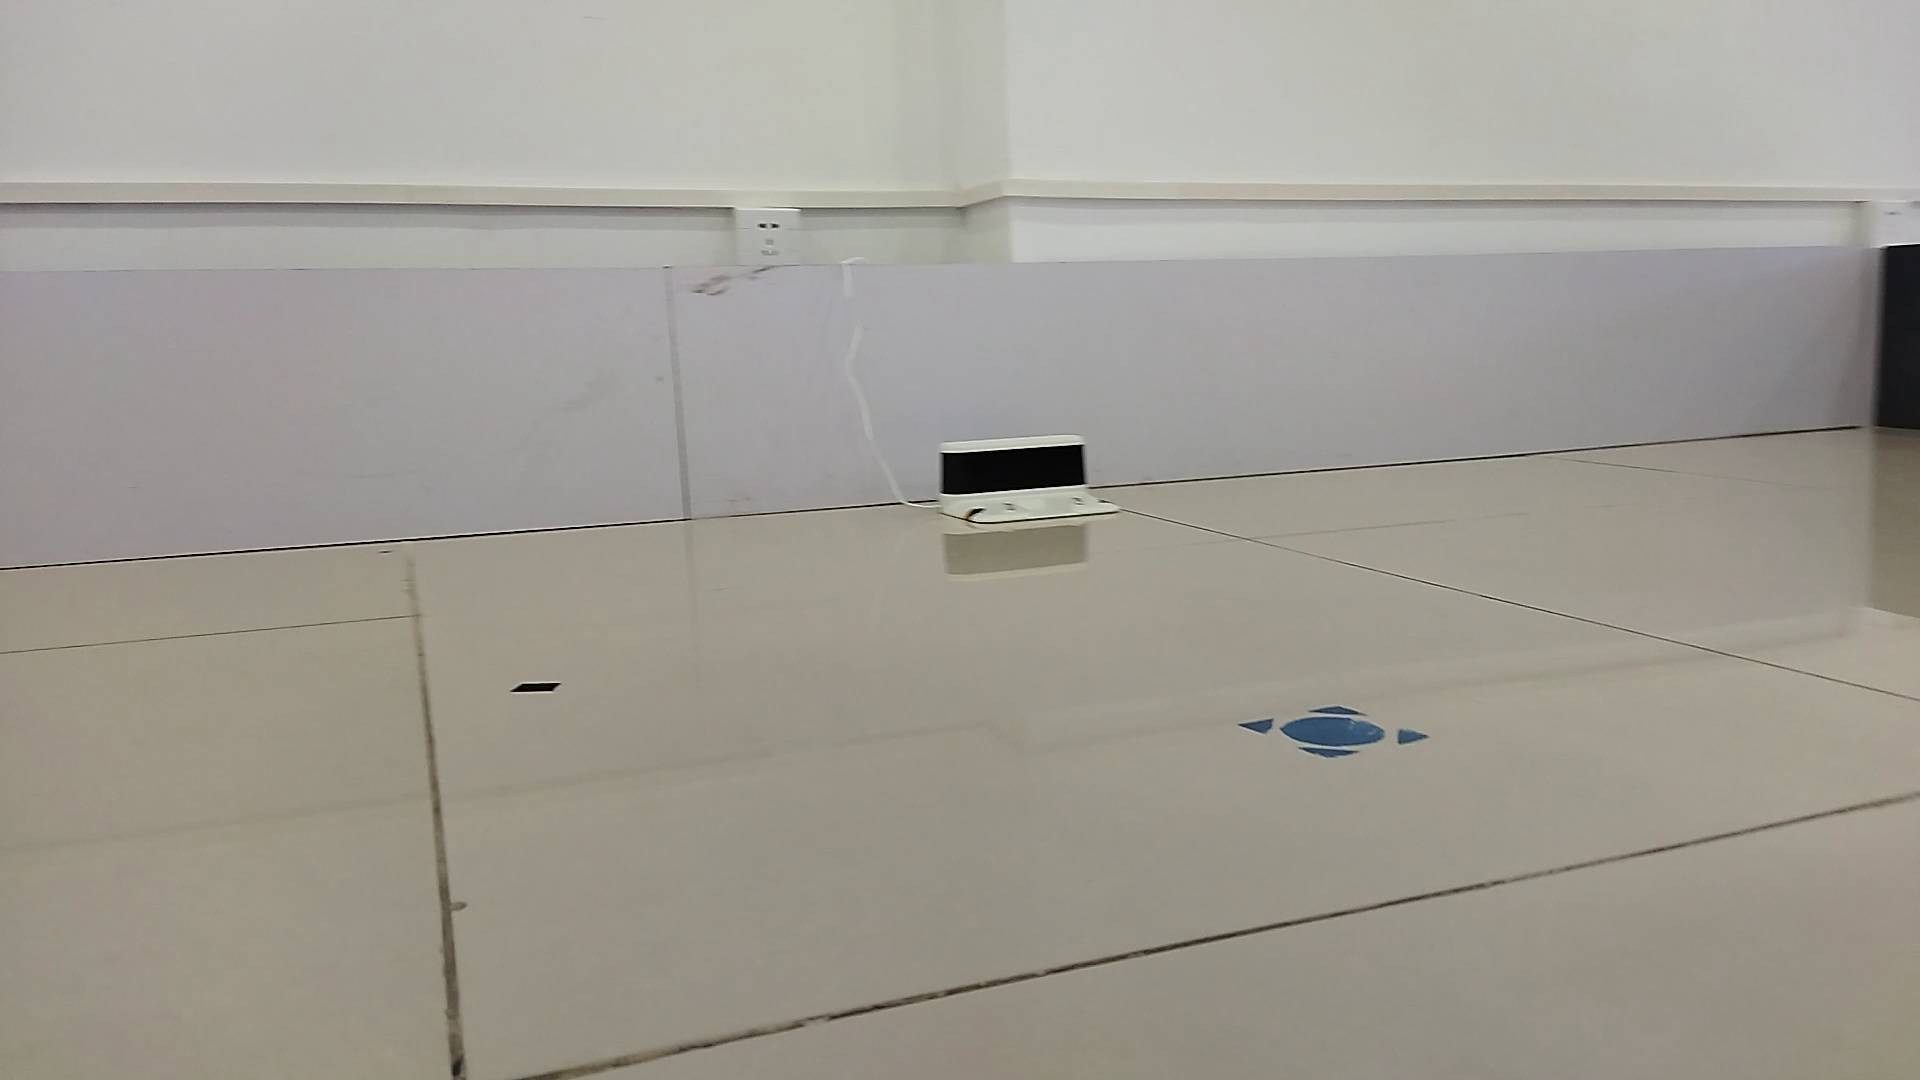recharge seat: (939, 434, 1121, 522)
